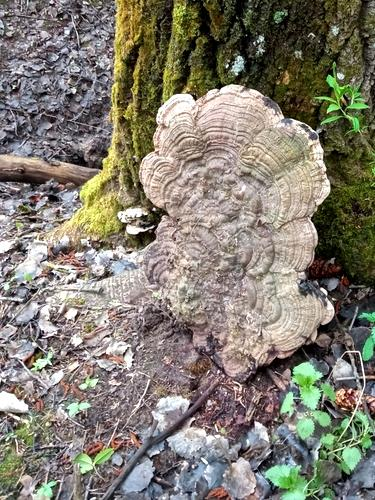Ganoderma - Fruit Body: (131, 76, 337, 367)
